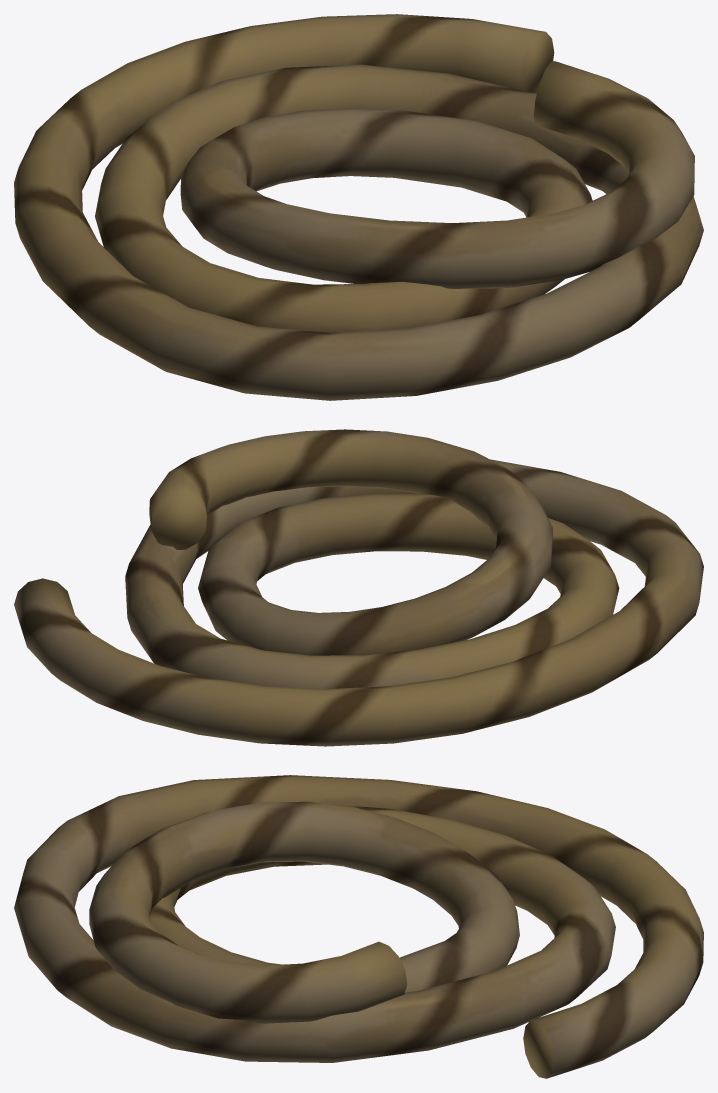
Rendered from Rope_1.gltf.
The picture shows the model from 3 angles, top to bottom: view 1: azimuth 30°, elevation 25°; view 2: azimuth 150°, elevation 25°; view 3: azimuth 270°, elevation 25°; orthographic projection. The views are drawn at different scales.
Parts seen in each view (by area): view 1: Rope_1; view 2: Rope_1; view 3: Rope_1.
Part boxes in pixels (box(x1,y1,x2,y2)): Rope_1: box(14, 14, 703, 400); Rope_1: box(14, 429, 703, 746); Rope_1: box(14, 775, 703, 1078).
Size of the model in its own units: 0.5574 by 0.0979 by 0.6063.
1 material, 1 textured.
